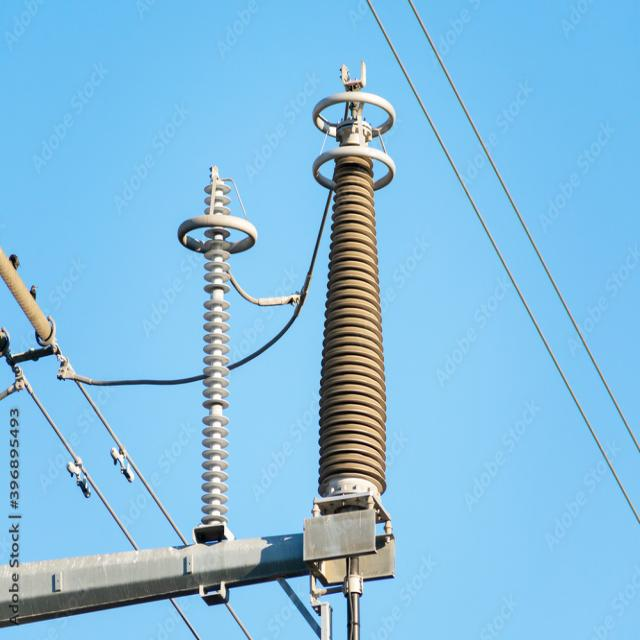insulator: (173, 199, 280, 565)
